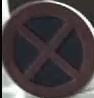No Stopping: (4, 3, 90, 94)
